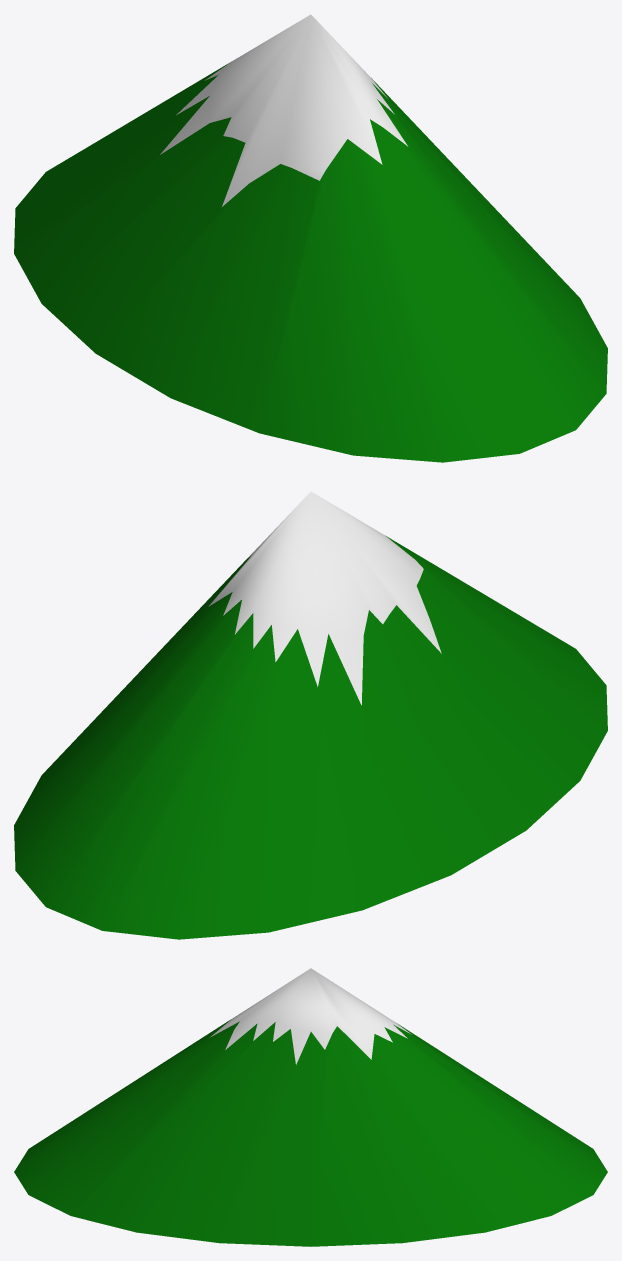
Rendered from Mountain Green with Snow .fbx.
The picture shows the model from 3 angles, top to bottom: view 1: azimuth 30°, elevation 25°; view 2: azimuth 150°, elevation 25°; view 3: azimuth 270°, elevation 25°; orthographic projection. The views are drawn at different scales.
Parts seen in each view (by area): view 1: polySurface16; view 2: polySurface16; view 3: polySurface16.
Boxes of the visible parts, x1,y1,x2,y2 form: polySurface16: (14,14,607,462); polySurface16: (14,491,607,939); polySurface16: (14,968,607,1246).
Size of the model in its own units: 7.95 by 5.06 by 13.35.
